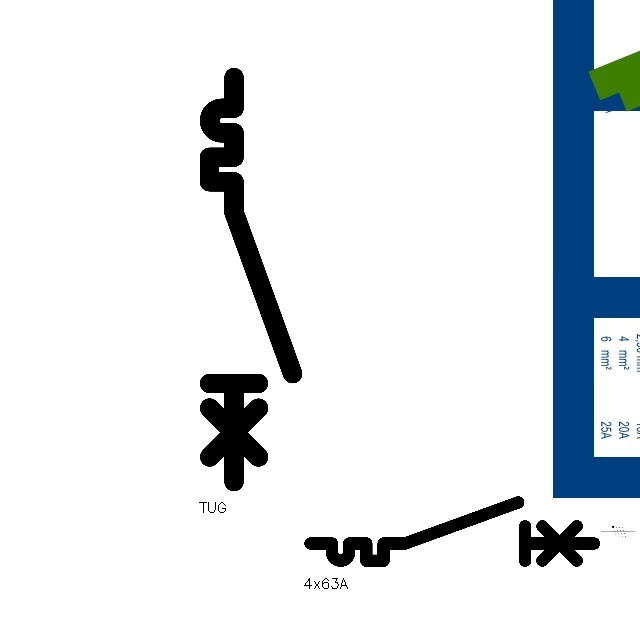interruptor_termomagnetico: (199, 67, 303, 492), (303, 495, 601, 568)
